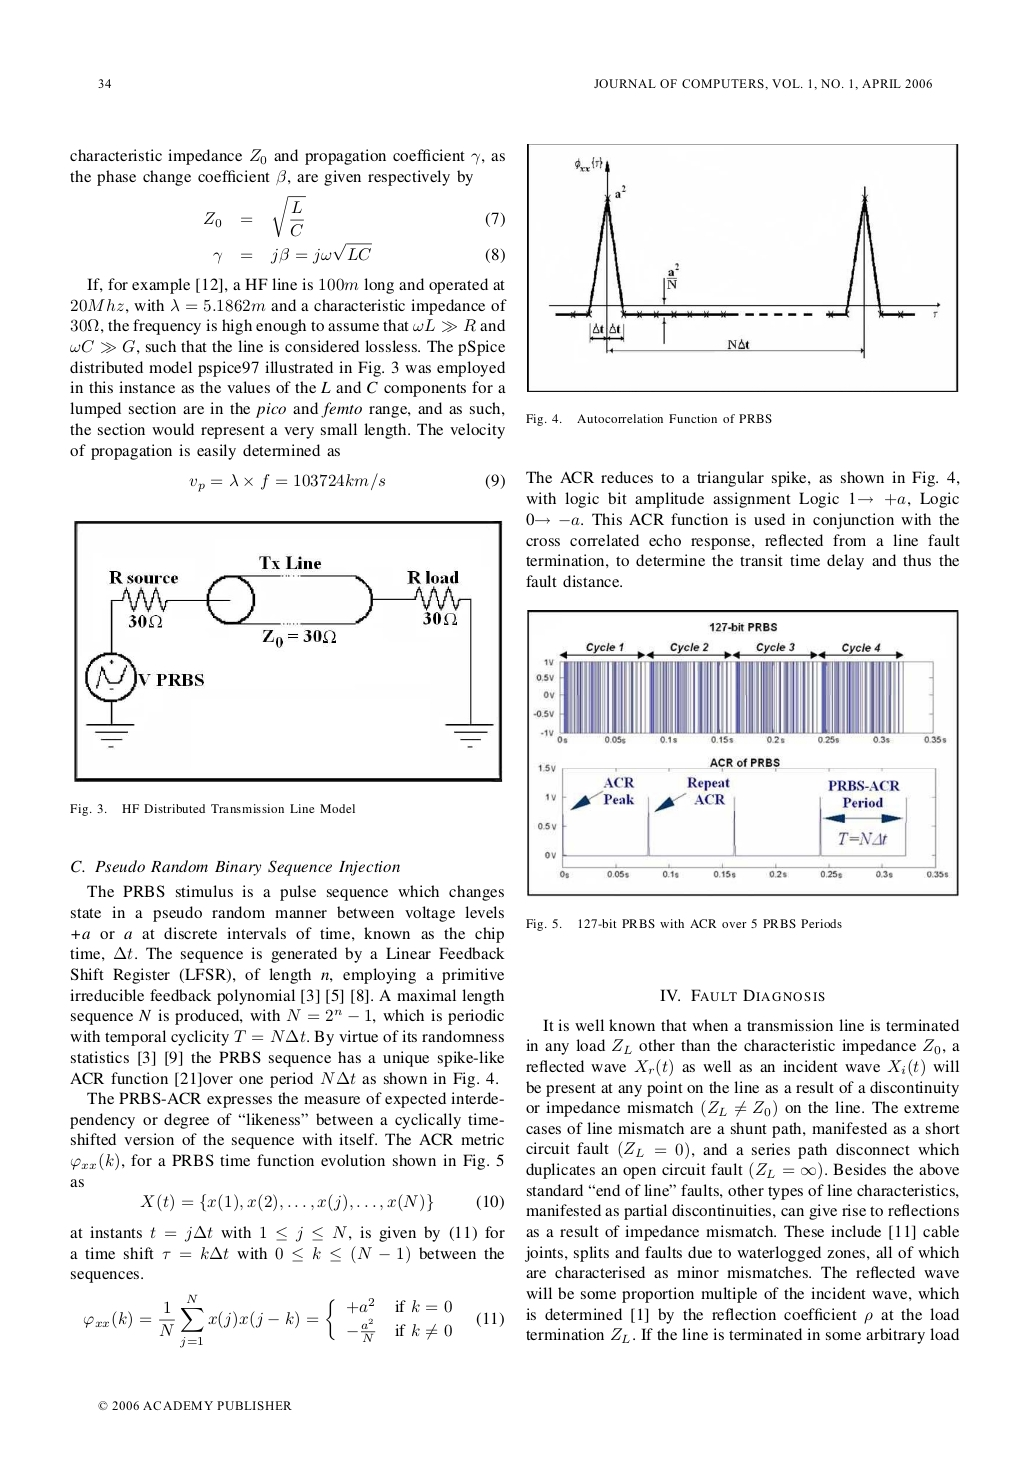figure: (527, 608, 958, 897), (74, 519, 502, 782), (527, 142, 958, 392)
formula: (83, 1292, 503, 1347), (204, 195, 504, 236), (139, 1192, 503, 1212), (213, 242, 504, 264), (189, 472, 504, 492)
